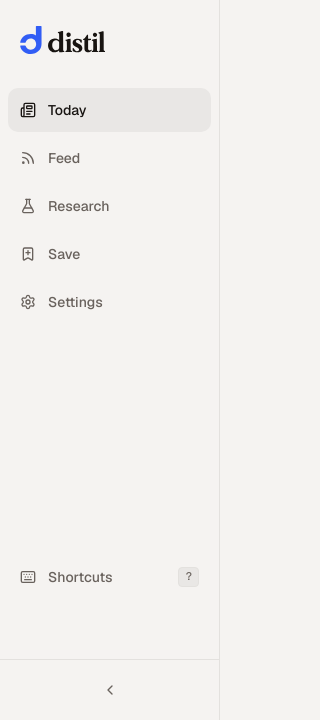
Test case: Sidebar › centres the icons in the collapsed rail and keeps the shortcuts name
The image size is (320, 720).
Click the button named "Collapse sidebar".
click(110, 690)  # box 8,668 -> 211,712
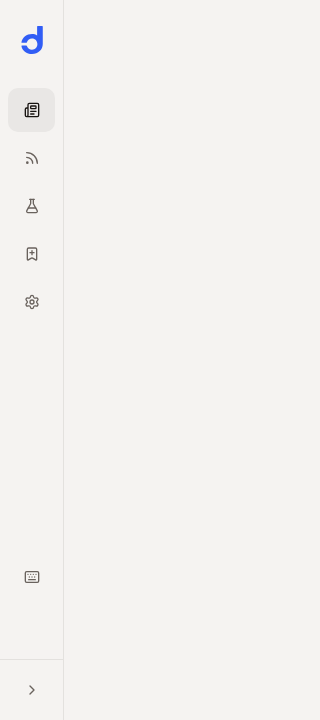
expect the button named "Keyboard shortcuts" no longer shows "?": met, box 8,555 -> 55,599
